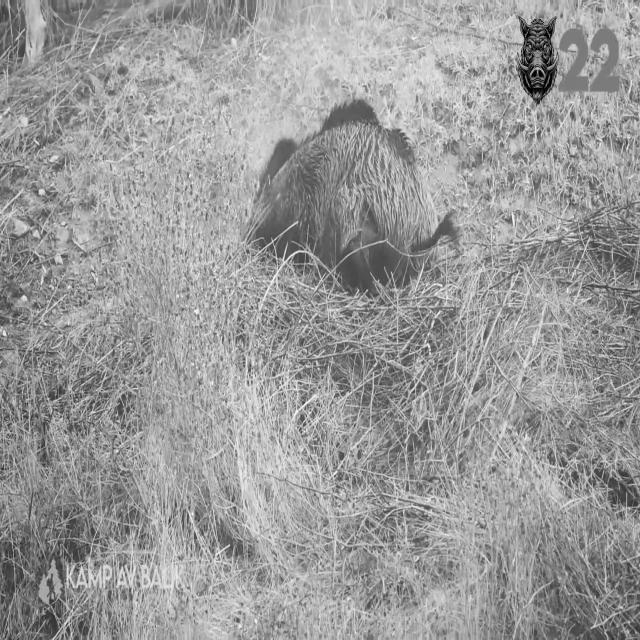boar: (248, 100, 456, 293)
